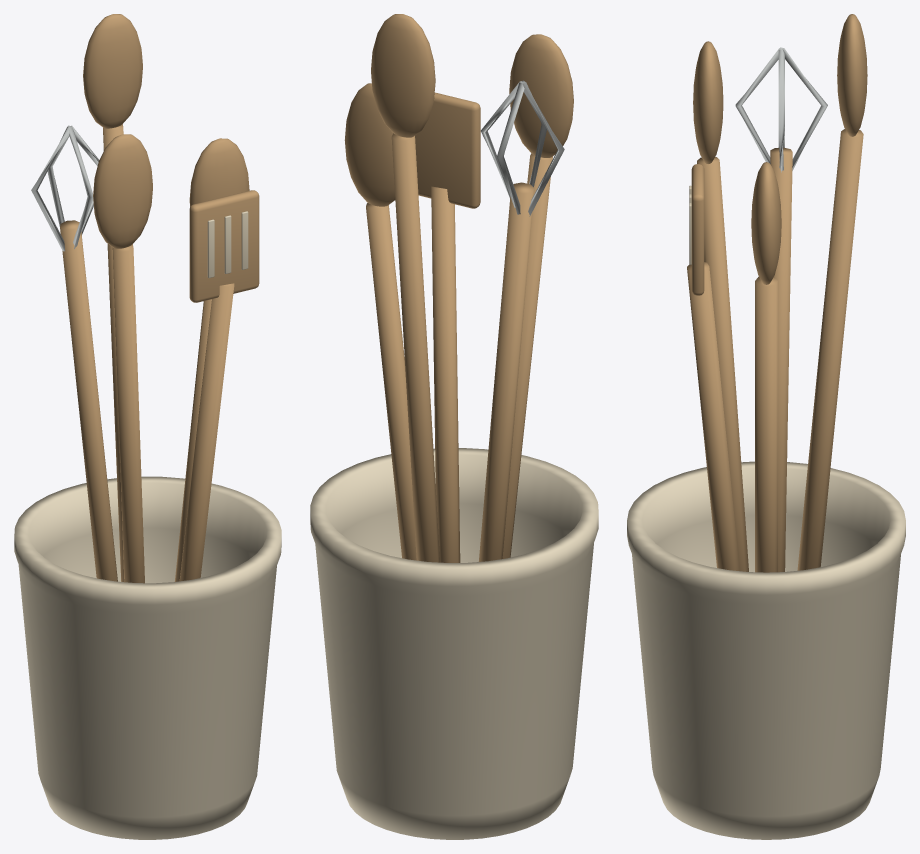
Rendered from utensil_crock.glb.
3 renders of one model, left to right at view 1: azimuth 30°, elevation 25°; view 2: azimuth 150°, elevation 25°; view 3: azimuth 270°, elevation 25°, orthographic. The views are drawn at different scales.
Parts seen in each view (by area): view 1: utensil_crock__body, utensil_crock__accent, utensil_crock__metal; view 2: utensil_crock__body, utensil_crock__accent, utensil_crock__metal; view 3: utensil_crock__body, utensil_crock__accent, utensil_crock__metal.
Boxes of the visible parts, box(x1,y1,x2,y2) form: utensil_crock__body: box(14, 211, 281, 839); utensil_crock__accent: box(60, 14, 259, 583); utensil_crock__metal: box(31, 125, 99, 251); utensil_crock__body: box(310, 448, 598, 839); utensil_crock__accent: box(344, 14, 573, 562); utensil_crock__metal: box(481, 80, 564, 216); utensil_crock__body: box(627, 185, 905, 839); utensil_crock__accent: box(687, 14, 867, 572); utensil_crock__metal: box(735, 47, 827, 172).
Size of the model in its own units: 0.11 by 0.341 by 0.11.
